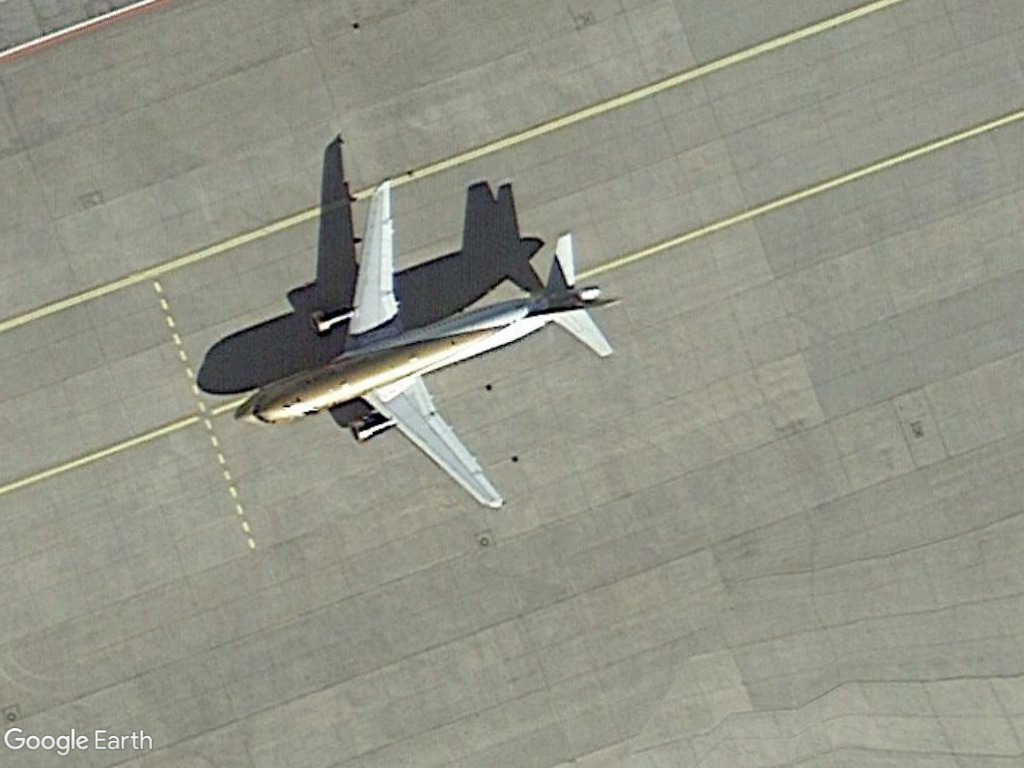airliner: (218, 159, 631, 516)
